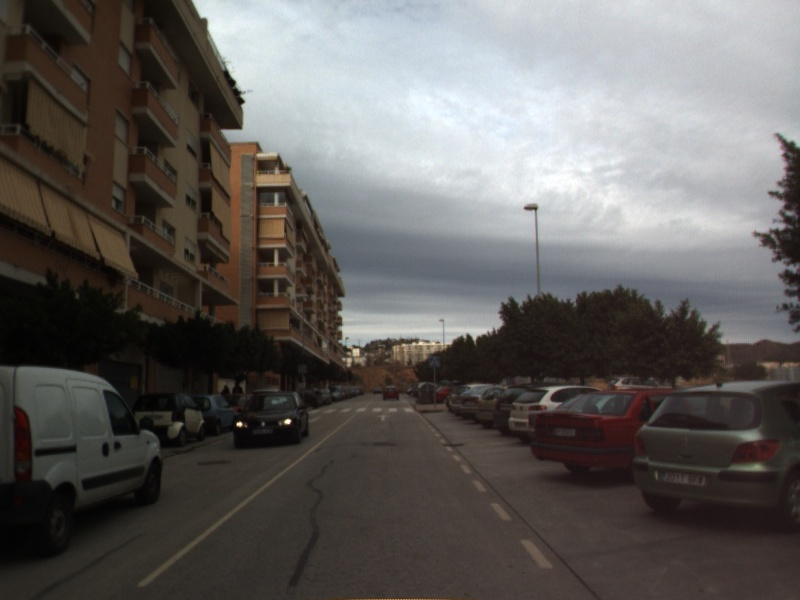STRAIGHT: (375, 412, 392, 423)
